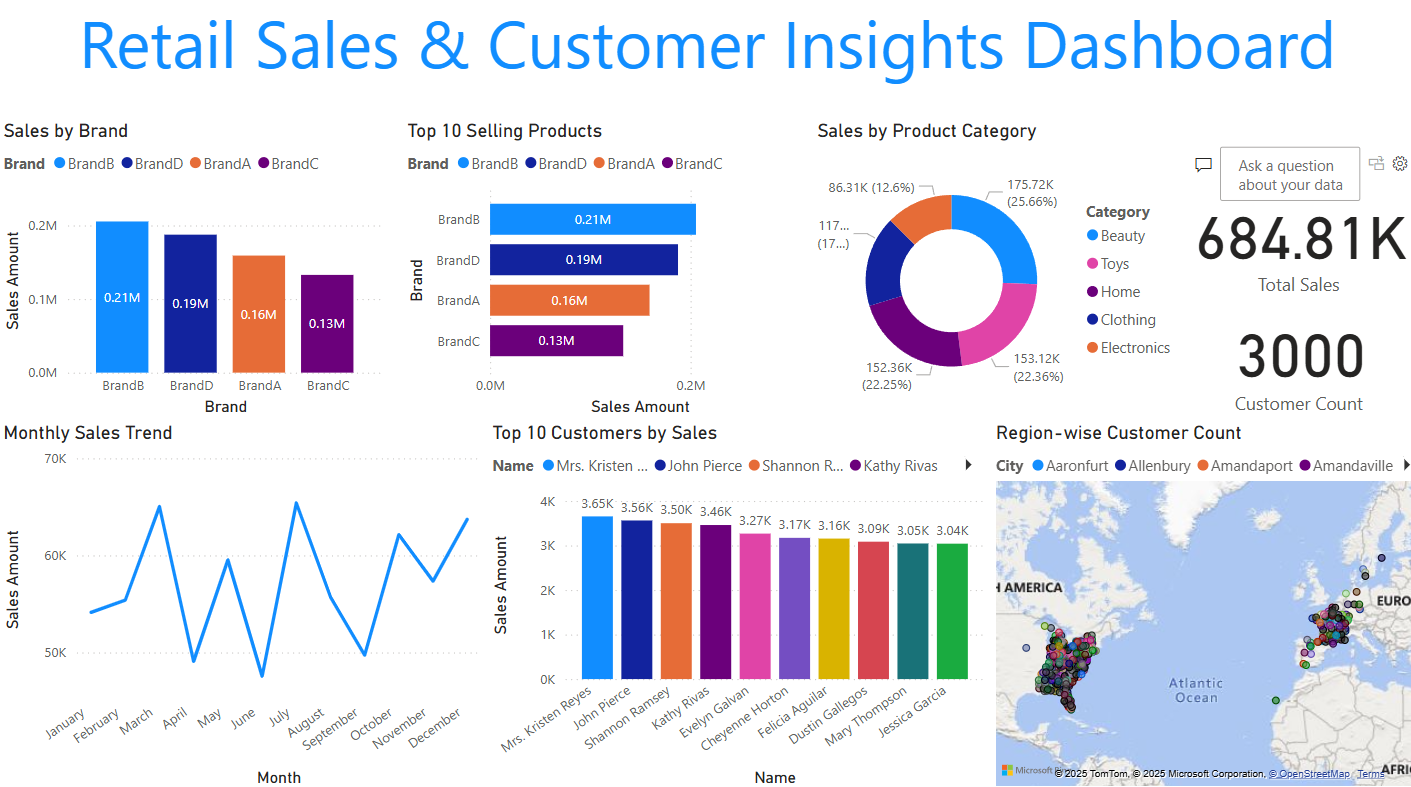

The dashboard page shown, as its layout file describes it:
{"tool":"powerbi","page":{"name":"Page 1","canvas":[1280,720],"ordinal":0},"visuals":[{"type":"card","fields":{"Values":["Sum(retail_data transactions.sales_amount)"]},"box":[1071.1,174.1,208.9,102.1],"z":0},{"type":"columnChart","title":"Sales by Brand","fields":{"Category":["retail_data products.brand"],"Y":["Sum(retail_data transactions.sales_amount)"],"Series":["retail_data products.brand"]},"box":[0,114.1,351.8,272.6],"z":1},{"type":"lineChart","title":"Monthly Sales Trend","fields":{"Category":["retail_data transactions.date.Variation.Date Hierarchy.Month"],"Y":["Sum(retail_data transactions.sales_amount)"]},"box":[0,386.6,440.7,333.8],"z":2},{"type":"card","fields":{"Values":["CountNonNull(retail_data transactions.customer_id)"]},"box":[1071.1,276.2,208.9,110.5],"z":3},{"type":"columnChart","title":"Top 10 Customers by Sales","fields":{"Category":["retail_data customers.name"],"Y":["Sum(retail_data transactions.sales_amount)"],"Series":["retail_data customers.name"]},"box":[440.7,386.6,453.9,333.8],"z":4},{"type":"barChart","title":"Top 10 Selling Products","fields":{"Category":["retail_data products.brand"],"Y":["Sum(retail_data transactions.sales_amount)"],"Series":["retail_data products.brand"]},"box":[363.8,114.1,369.8,272.6],"z":5},{"type":"donutChart","title":"Sales by Product Category","fields":{"Category":["retail_data products.category"],"Y":["Sum(retail_data transactions.sales_amount)"]},"box":[733.7,114.1,337.4,272.6],"z":6},{"type":"map","title":"Region-wise Customer Count","fields":{"Series":["retail_data customers.location"],"Category":["retail_data payments.customer_id"]},"box":[894.6,386.6,385.4,333.8],"z":7},{"type":"qnaVisual","box":[1071.1,114.1,208.9,82.9],"z":8},{"type":"textbox","box":[0,0,1280,114.1],"z":9}]}

Visuals, with their boxes in screenshot pixels (x1, y1, x2, y2), scaled from the page's 1280x720 canvas onto the 1411x787 screenshot:
card - Sum(retail_data transactions.sales_amount): x1=1181, y1=190, x2=1410, y2=302
"Sales by Brand" columnChart: x1=0, y1=125, x2=388, y2=423
"Monthly Sales Trend" lineChart: x1=0, y1=423, x2=486, y2=786
card - CountNonNull(retail_data transactions.customer_id): x1=1181, y1=302, x2=1410, y2=423
"Top 10 Customers by Sales" columnChart: x1=486, y1=423, x2=986, y2=786
"Top 10 Selling Products" barChart: x1=401, y1=125, x2=809, y2=423
"Sales by Product Category" donutChart: x1=809, y1=125, x2=1181, y2=423
"Region-wise Customer Count" map: x1=986, y1=423, x2=1410, y2=786
qnaVisual: x1=1181, y1=125, x2=1410, y2=215
textbox: x1=0, y1=0, x2=1410, y2=125
